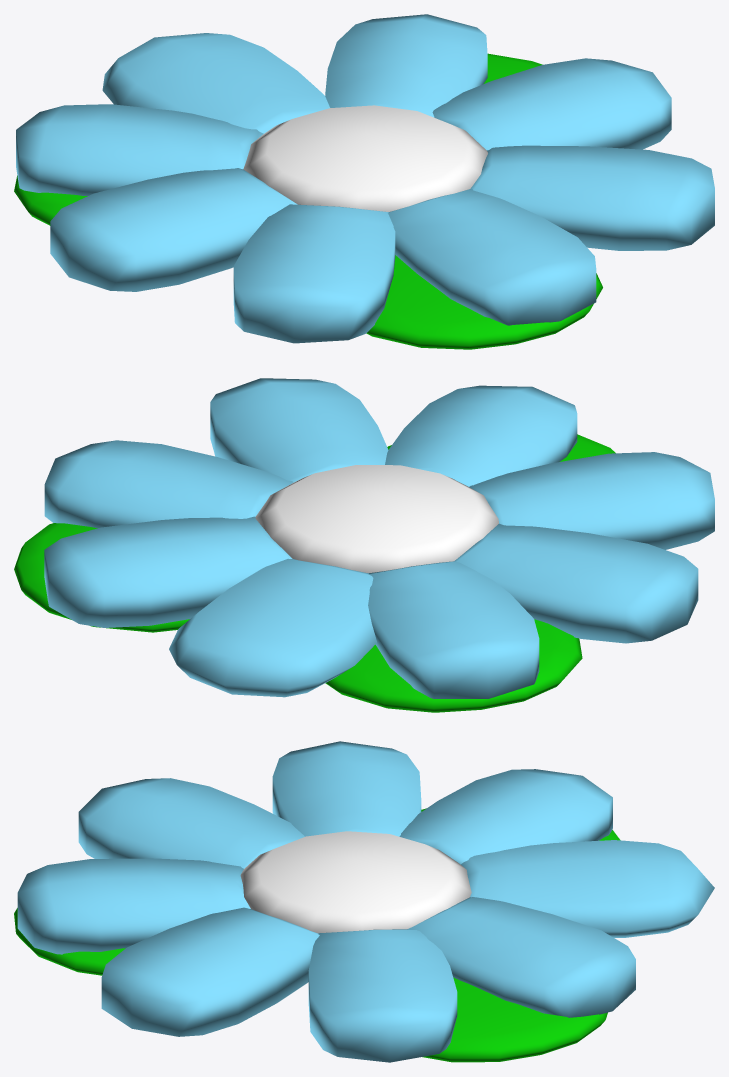
Rendered from FlowerBoosterLow.fbx.
The picture shows the model from 3 angles, top to bottom: view 1: azimuth 30°, elevation 25°; view 2: azimuth 150°, elevation 25°; view 3: azimuth 270°, elevation 25°; orthographic projection. The views are drawn at different scales.
Visible parts, largest first — view 1: FlowerBooster1; view 2: FlowerBooster1; view 3: FlowerBooster1.
Part boxes in pixels (x1,y1,x2,y2): FlowerBooster1: [14, 14, 714, 349]; FlowerBooster1: [14, 378, 714, 712]; FlowerBooster1: [14, 741, 714, 1062].
Bounding box in the file's own units: 1.91 × 0.2451 × 1.98.
1 material, 1 textured.
